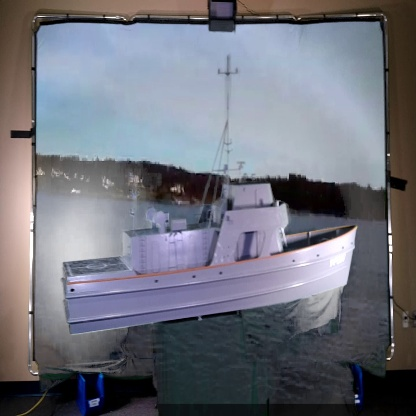YP689: (60, 47, 359, 336)
